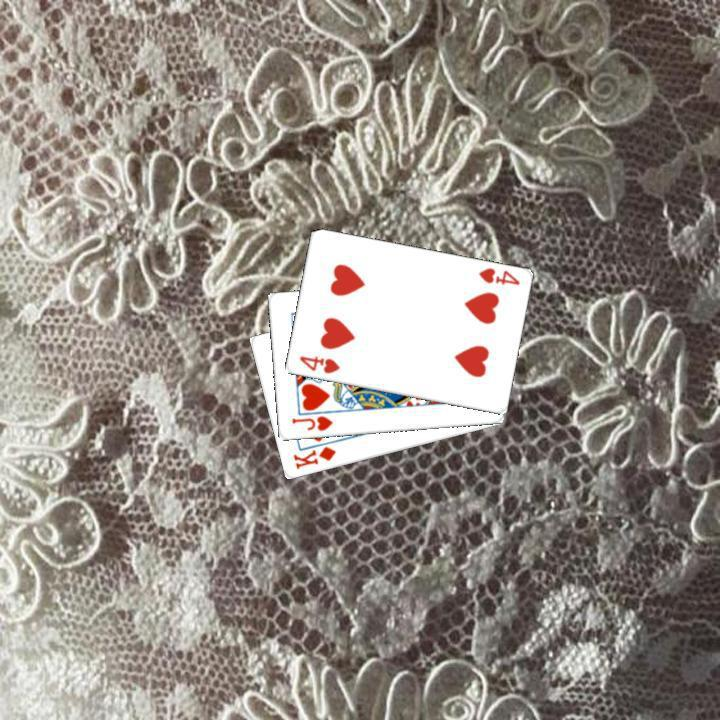4: (474, 263, 521, 287), (295, 352, 341, 376)
J: (287, 412, 334, 433)
K: (289, 442, 338, 471)
